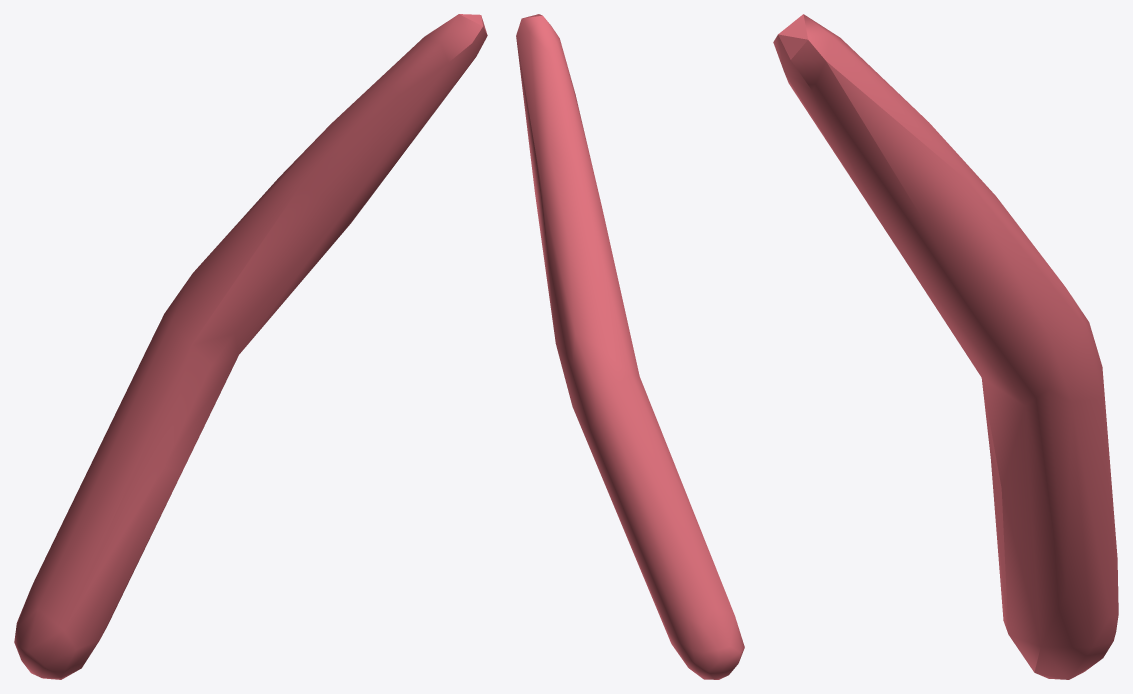
The model's file is fma8663_fj3025.glb.
3 views of the same model, side by side, from view 1: azimuth 30°, elevation 25°; view 2: azimuth 150°, elevation 25°; view 3: azimuth 270°, elevation 25° (orthographic). The views are drawn at different scales.
Parts seen in each view (by area): view 1: FMA8663_FJ3025; view 2: FMA8663_FJ3025; view 3: FMA8663_FJ3025.
Boxes of the visible parts, bbox=[...] form: FMA8663_FJ3025: bbox=[14, 14, 487, 679]; FMA8663_FJ3025: bbox=[516, 14, 744, 679]; FMA8663_FJ3025: bbox=[773, 14, 1118, 679].
Bounding box in the file's own units: 0.0118 × 0.0204 × 0.00746.
